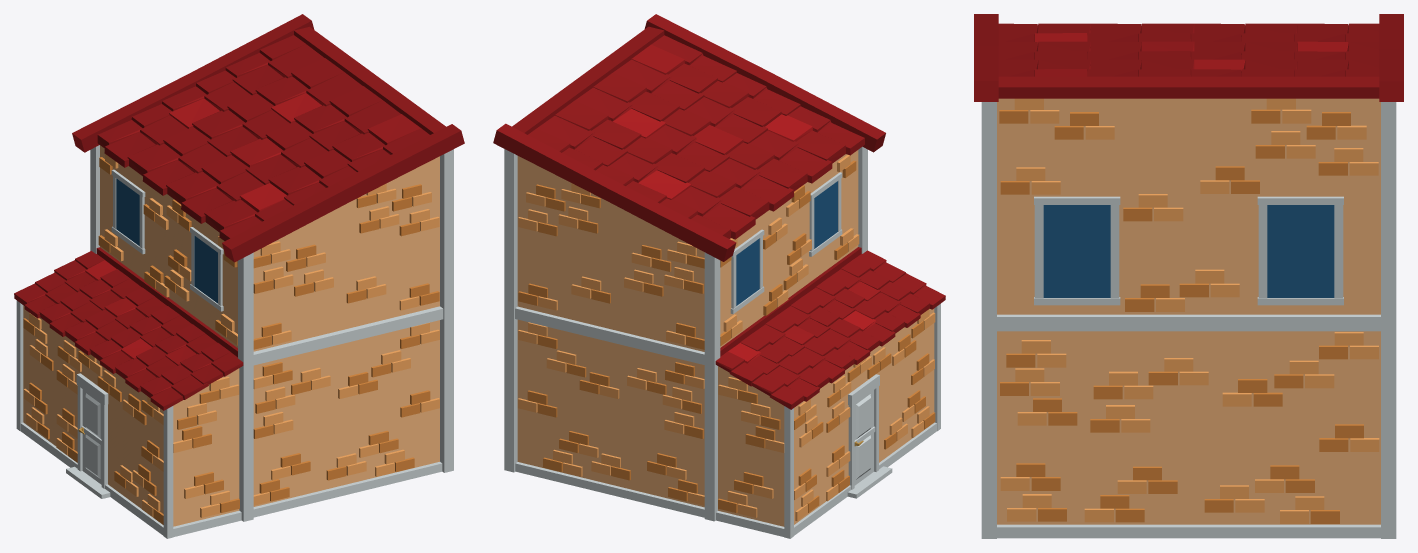
File: SM_House_10.FBX
3 views of the same model, side by side, from view 1: azimuth 30°, elevation 25°; view 2: azimuth 150°, elevation 25°; view 3: azimuth 270°, elevation 25° (orthographic). The views are drawn at different scales.
Parts seen in each view (by area): view 1: SM_House_10; view 2: SM_House_10; view 3: SM_House_10.
Part boxes in pixels (x1,y1,x2,y2): SM_House_10: (14,14,464,538); SM_House_10: (493,14,945,538); SM_House_10: (974,14,1403,538).
Size of what is drawn, in the model's own units: 838 by 765 by 905.
